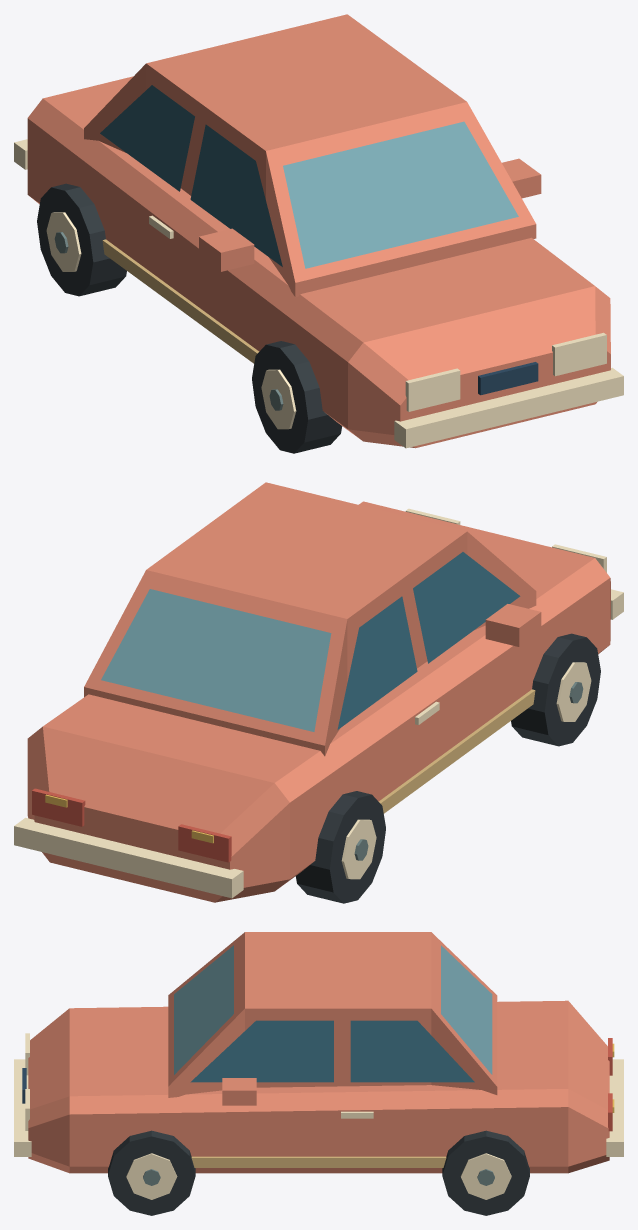
Rendered from civilian-sedan.glb.
3 views of the same model, one above another, from view 1: azimuth 30°, elevation 25°; view 2: azimuth 150°, elevation 25°; view 3: azimuth 270°, elevation 25° (orthographic). The views are drawn at different scales.
Visible parts, largest first — view 1: civilian-sedan; view 2: civilian-sedan; view 3: civilian-sedan.
Part boxes in pixels (<box>): civilian-sedan: <box>14,14,623,453</box>; civilian-sedan: <box>14,482,623,903</box>; civilian-sedan: <box>14,932,623,1215</box>.
Size of the model in its own units: 2.1 by 1.53 by 4.45.
1 material, 1 textured.
